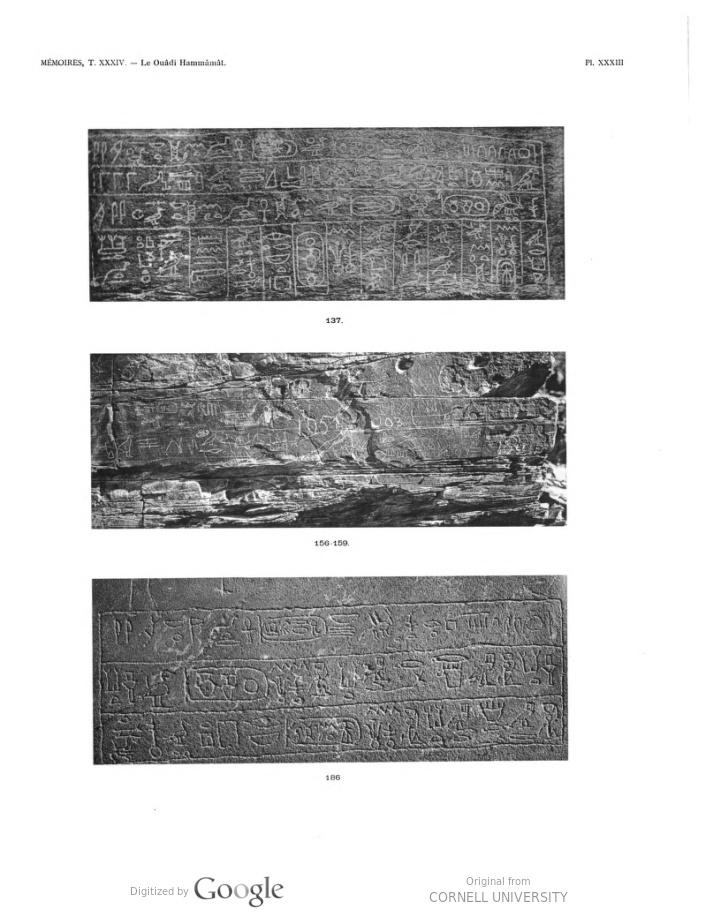circle: (179, 664, 276, 710), (278, 714, 368, 763), (252, 605, 339, 647), (287, 227, 333, 300), (340, 185, 409, 223), (436, 189, 494, 227), (491, 249, 520, 305)
